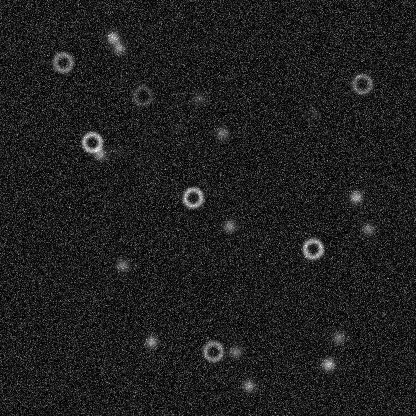Ring: (201, 339, 225, 363), (79, 130, 103, 154), (350, 71, 374, 95), (300, 236, 324, 260), (50, 50, 74, 74), (180, 185, 204, 209), (130, 83, 154, 107)
Spot: (221, 218, 237, 234), (91, 145, 107, 161), (190, 90, 206, 106), (114, 256, 130, 272), (330, 329, 346, 345), (240, 377, 256, 393), (320, 356, 336, 372), (110, 39, 126, 55), (359, 220, 375, 236), (108, 143, 124, 159), (104, 29, 120, 45), (306, 105, 322, 121), (213, 124, 229, 140), (347, 188, 363, 204), (168, 119, 184, 135), (143, 333, 159, 349), (227, 343, 243, 359)
